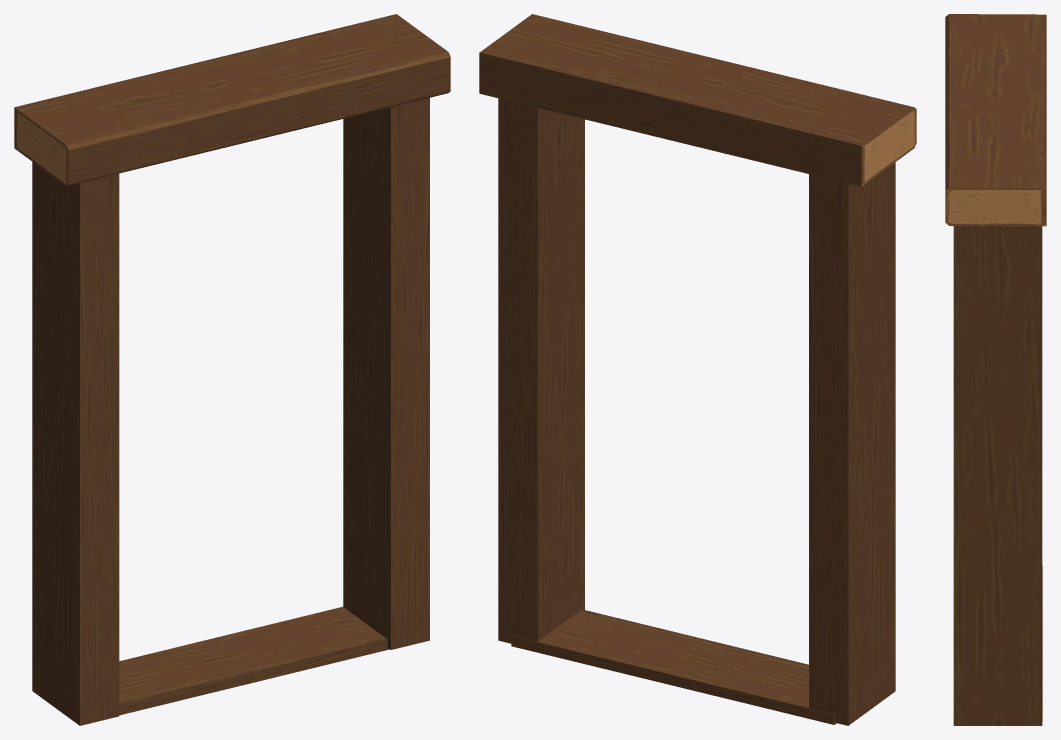
File: DoorFrame_Flat_WoodDark.gltf
The picture shows the model from 3 angles, left to right: view 1: azimuth 30°, elevation 25°; view 2: azimuth 150°, elevation 25°; view 3: azimuth 270°, elevation 25°; orthographic projection. The views are drawn at different scales.
Visible parts, largest first — view 1: DoorFrame_Flat_WoodDark; view 2: DoorFrame_Flat_WoodDark; view 3: DoorFrame_Flat_WoodDark.
Part boxes in pixels (left/top/right/bottom): DoorFrame_Flat_WoodDark: left=14, top=14, right=450, bottom=725; DoorFrame_Flat_WoodDark: left=479, top=14, right=916, bottom=725; DoorFrame_Flat_WoodDark: left=945, top=14, right=1046, bottom=725.
Bounding box in the file's own units: 1.57 × 2.31 × 0.3885.
1 material, 1 textured.
